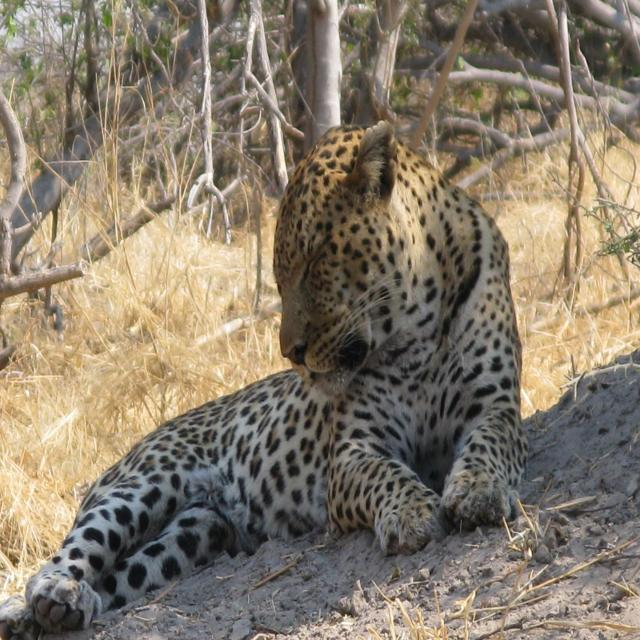Leopard: (0, 108, 549, 640)
